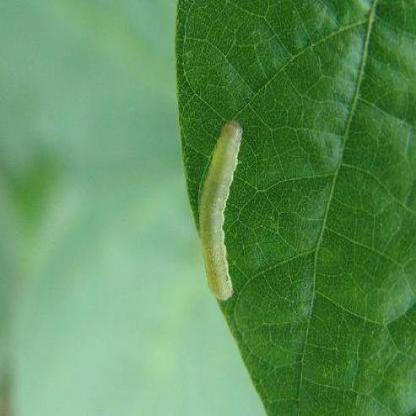armyworm: (201, 115, 245, 299)
